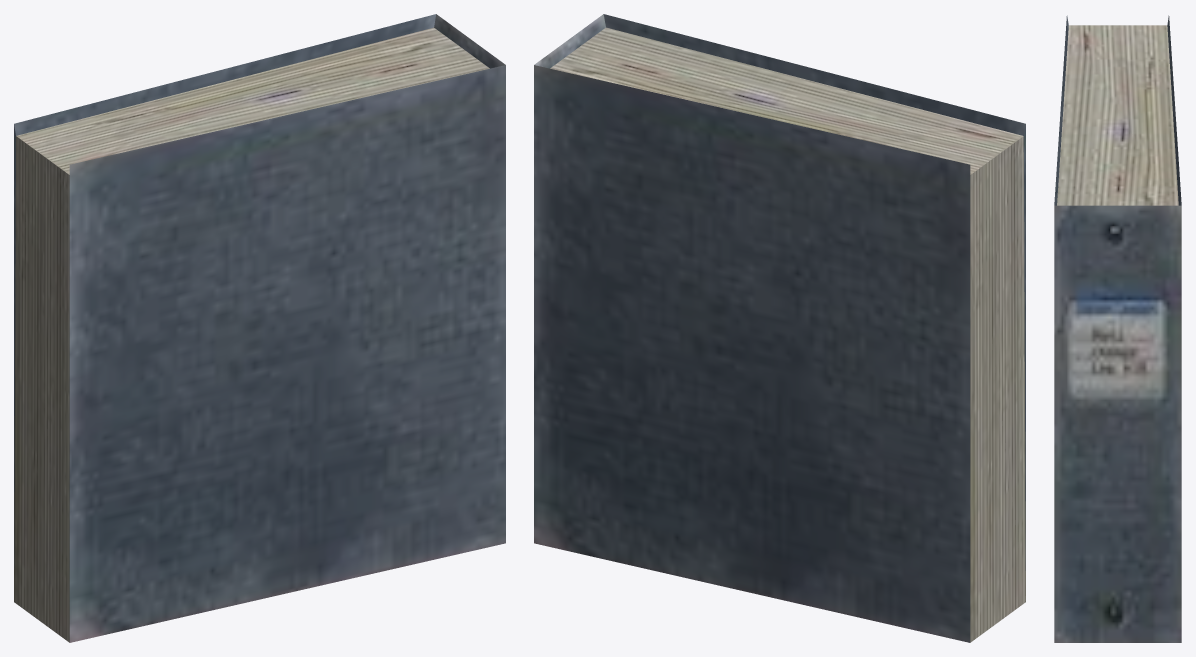
Rendered from binderbluelabel.glb.
3 views of the same model, side by side, from view 1: azimuth 30°, elevation 25°; view 2: azimuth 150°, elevation 25°; view 3: azimuth 270°, elevation 25° (orthographic). The views are drawn at different scales.
Parts seen in each view (by area): view 1: 0_lab_objects03; view 2: 0_lab_objects03; view 3: 0_lab_objects03.
Boxes of the visible parts, left/top/right/bottom form: 0_lab_objects03: left=14, top=14, right=505, bottom=642; 0_lab_objects03: left=534, top=14, right=1025, bottom=642; 0_lab_objects03: left=1054, top=15, right=1181, bottom=642.
Size of the model in its own units: 0.2797 by 0.2979 by 0.0787.
Materials: 1 (1 with a texture image).
